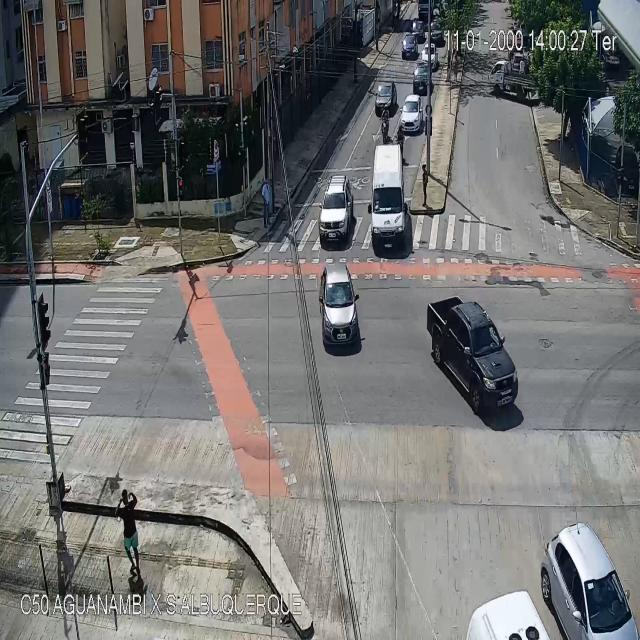Car: (427, 294, 519, 416), (540, 524, 636, 640), (367, 142, 409, 253), (318, 262, 360, 350), (319, 173, 353, 243), (375, 81, 399, 113), (402, 94, 421, 132), (412, 60, 432, 96), (401, 33, 419, 62), (422, 44, 437, 70), (430, 22, 442, 47), (412, 18, 424, 41)
Motorcycle: (381, 104, 390, 142)
Truck: (489, 64, 542, 105)
